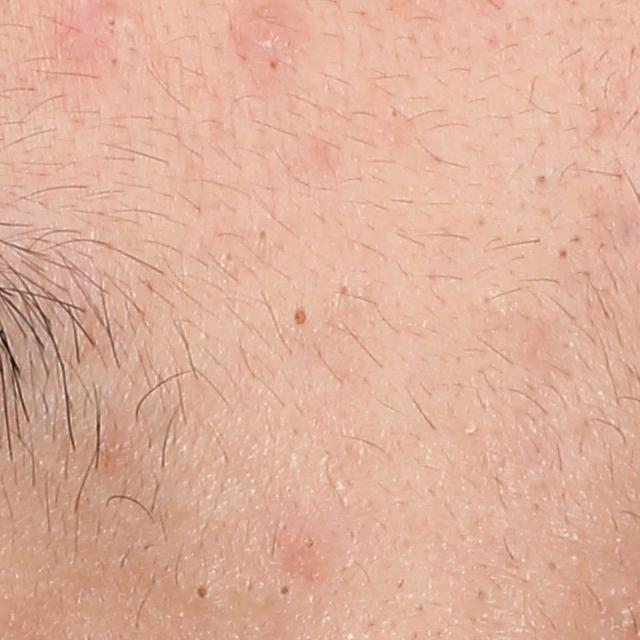comedo: (177, 569, 222, 607), (287, 302, 317, 332), (534, 169, 552, 189), (104, 14, 124, 31), (336, 280, 353, 298), (557, 244, 574, 261), (265, 59, 286, 70)
